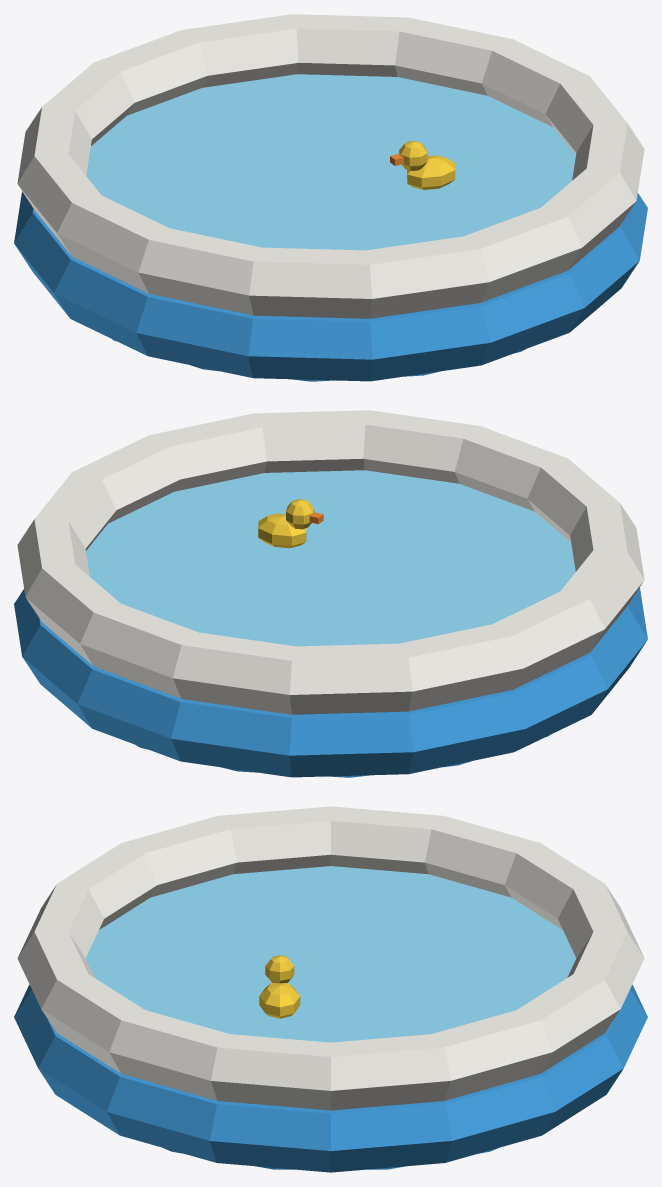
File: prop_kiddie_pool.glb
The picture shows the model from 3 angles, top to bottom: view 1: azimuth 30°, elevation 25°; view 2: azimuth 150°, elevation 25°; view 3: azimuth 270°, elevation 25°; orthographic projection.
Visible parts, largest first — view 1: prop_kiddie_pool; view 2: prop_kiddie_pool; view 3: prop_kiddie_pool.
Part boxes in pixels (x1,y1,x2,y2): prop_kiddie_pool: (14, 14, 647, 381); prop_kiddie_pool: (14, 410, 647, 777); prop_kiddie_pool: (14, 806, 647, 1172).
Bounding box in the file's own units: 1.86 × 0.395 × 1.86.
